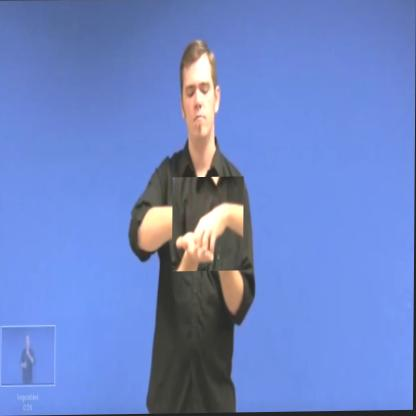Expensive: (172, 177, 244, 272)
